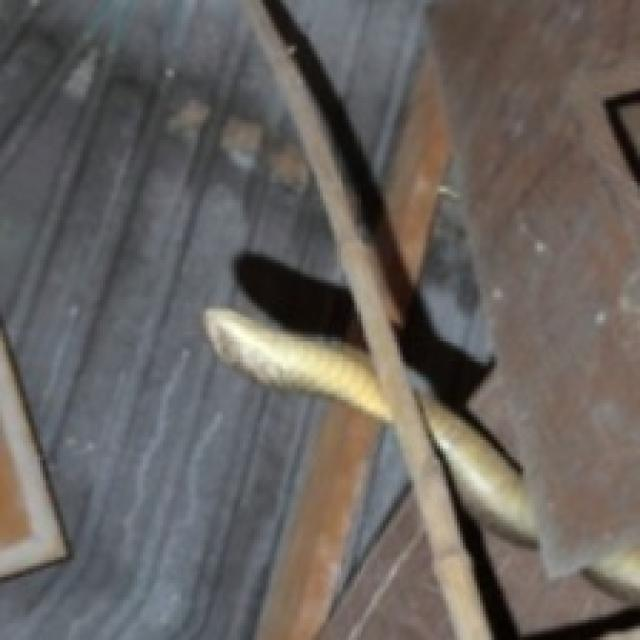king cobra: (203, 309, 389, 420), (417, 397, 534, 543)
